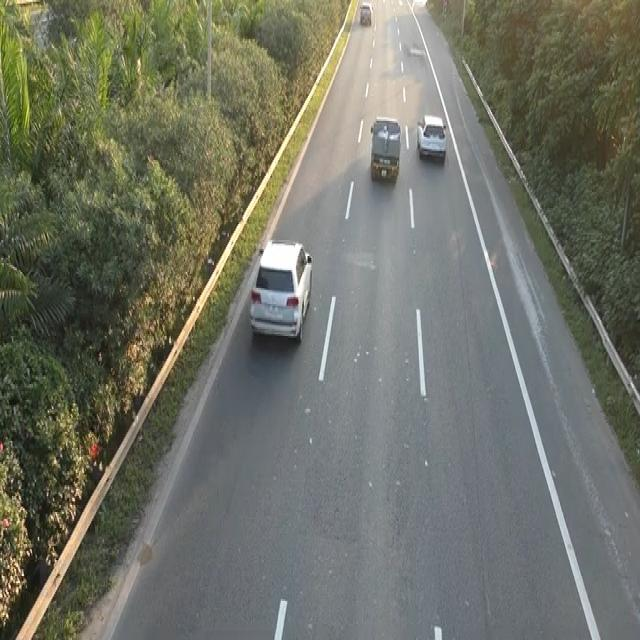car: (247, 235, 316, 350), (415, 110, 447, 162)
minivan: (368, 112, 402, 183)
